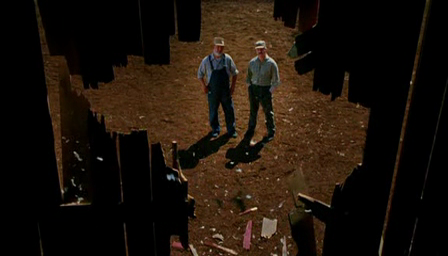els: (1, 1, 448, 256)
face: (213, 45, 224, 56), (256, 47, 265, 58)
person: (197, 37, 239, 139), (245, 40, 281, 143)
